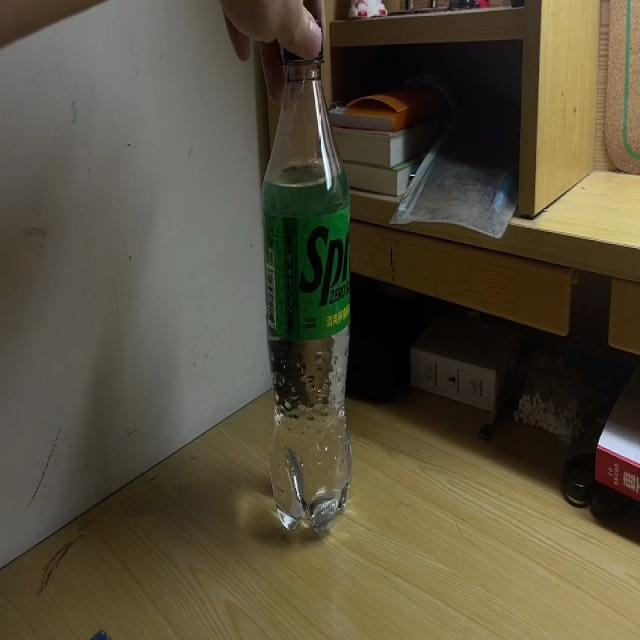Sprite: (265, 8, 350, 538)
